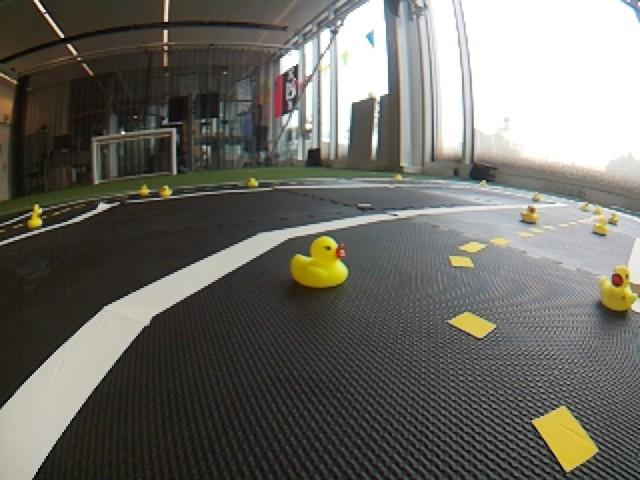Duckies: (292, 235, 347, 289), (598, 265, 640, 314), (520, 205, 538, 224), (591, 218, 608, 236), (28, 212, 42, 227), (159, 186, 171, 197), (608, 213, 619, 225), (138, 184, 149, 195), (31, 204, 42, 215), (580, 203, 591, 211), (248, 178, 258, 186), (532, 193, 541, 201), (594, 206, 603, 214), (394, 174, 402, 181), (480, 180, 487, 185)
